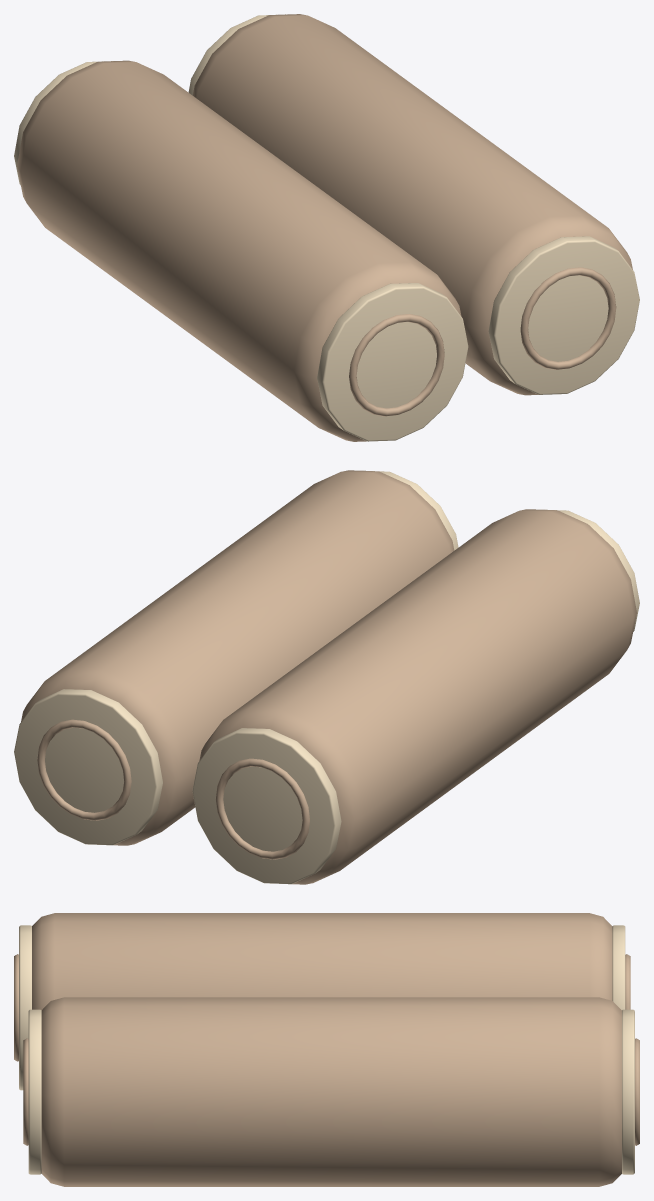
Rendered from wood-carried.glb.
The picture shows the model from 3 angles, top to bottom: view 1: azimuth 30°, elevation 25°; view 2: azimuth 150°, elevation 25°; view 3: azimuth 270°, elevation 25°; orthographic projection. The views are drawn at different scales.
Parts seen in each view (by area): view 1: Soft bark log.008, Soft bark log.009, Cut end.018, Cut end.016, Growth ring.018, Growth ring.016, Cut end.017, Cut end.019; view 2: Soft bark log.008, Soft bark log.009, Cut end.017, Cut end.019, Growth ring.019, Growth ring.017, Cut end.016, Cut end.018; view 3: Soft bark log.009, Soft bark log.008, Cut end.018, Cut end.019, Cut end.016, Cut end.017, Growth ring.018, Growth ring.016, Growth ring.019.
Boxes of the visible parts, box(x1,y1,x2,y2) form: Soft bark log.008: box(17, 60, 461, 441); Soft bark log.009: box(193, 14, 632, 395); Cut end.018: box(488, 236, 639, 394); Cut end.016: box(317, 283, 468, 441); Growth ring.018: box(520, 267, 616, 369); Growth ring.016: box(349, 314, 444, 416); Cut end.017: box(14, 61, 112, 185); Cut end.019: box(188, 14, 285, 95); Soft bark log.008: box(199, 509, 636, 884); Soft bark log.009: box(21, 470, 454, 845); Cut end.017: box(192, 728, 341, 884); Cut end.019: box(14, 689, 162, 845); Growth ring.019: box(37, 719, 131, 820); Growth ring.017: box(215, 758, 309, 859); Cut end.016: box(545, 509, 639, 631); Cut end.018: box(364, 470, 458, 550); Soft bark log.009: box(41, 997, 621, 1186); Soft bark log.008: box(32, 913, 612, 1010); Cut end.018: box(28, 1009, 41, 1174); Cut end.019: box(622, 1009, 634, 1174); Cut end.016: box(19, 925, 31, 1090); Cut end.017: box(612, 925, 625, 1009); Growth ring.018: box(23, 1038, 28, 1145); Growth ring.016: box(14, 954, 18, 1061); Growth ring.019: box(635, 1038, 639, 1145).
Size of the model in its own units: 0.82 by 0.4 by 1.32.
